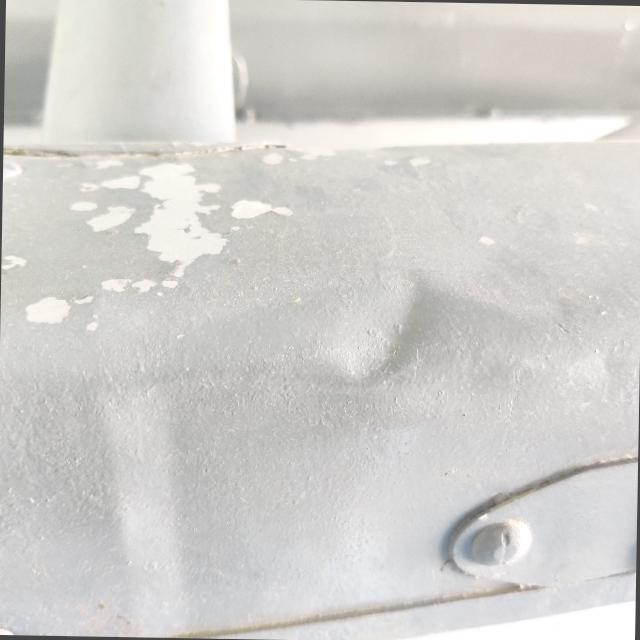dent: (316, 256, 452, 412)
